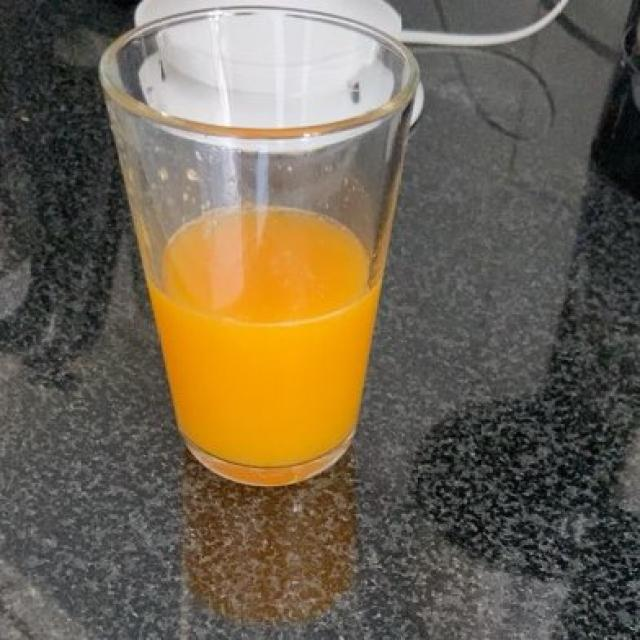juice-orange: (154, 209, 375, 462)
